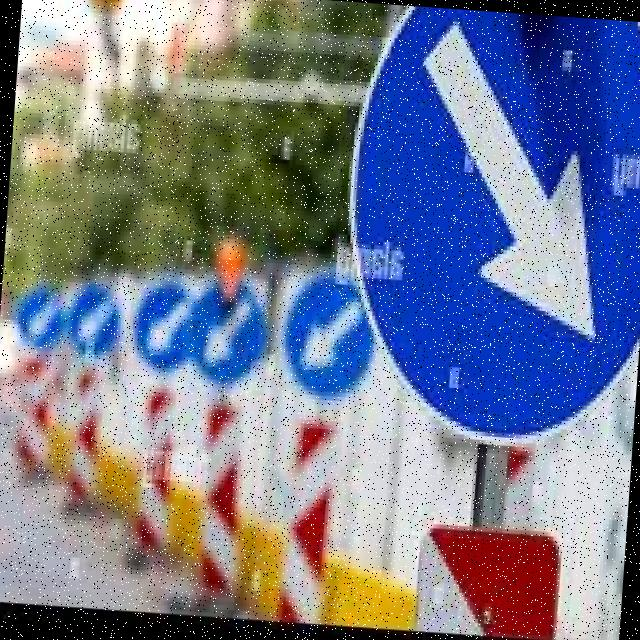compulsory_keep_right: (332, 2, 640, 458)
